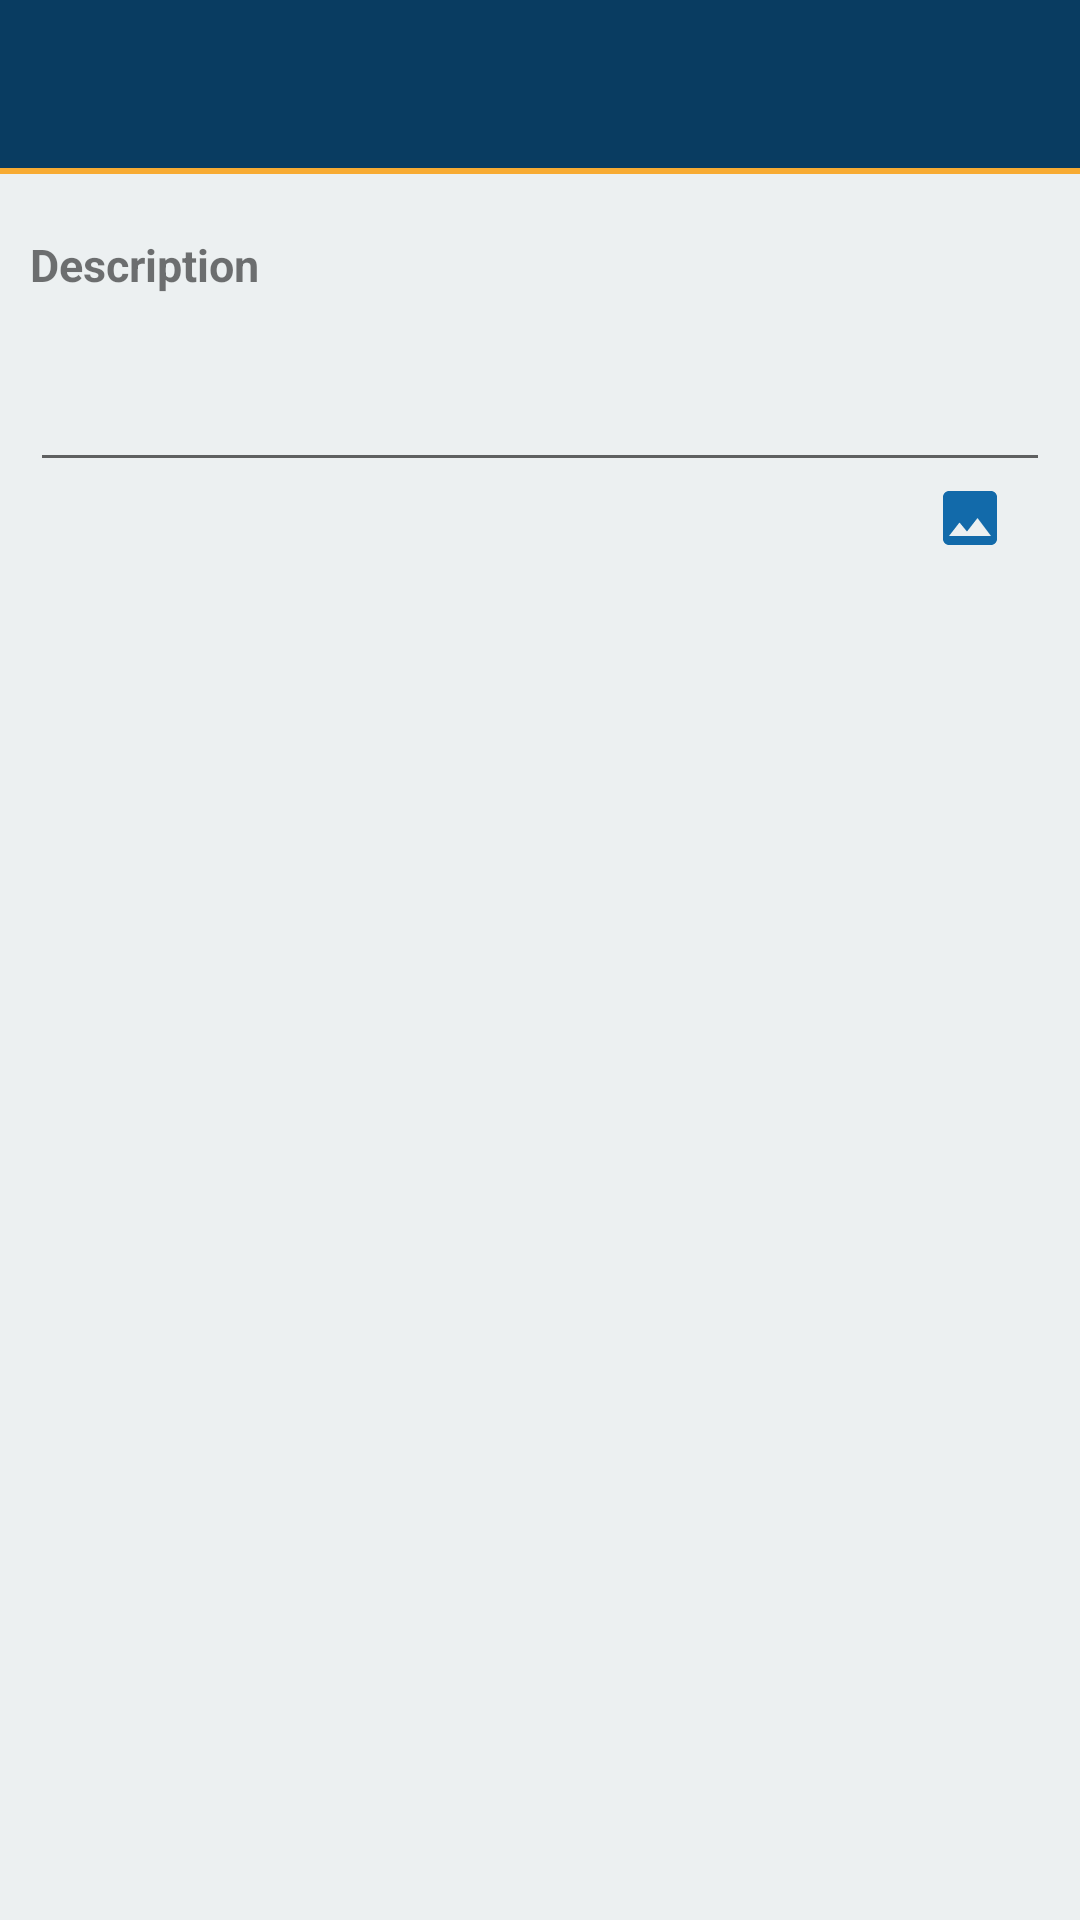

Icon bounding boxes for this 1080px x 1920px phone screenshot, format (x1, y1, x2, y2):
insert photo: (943, 491, 997, 545)
